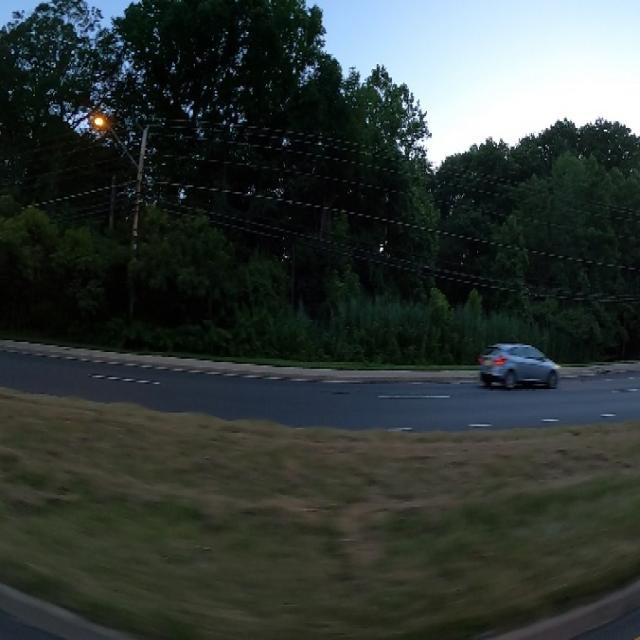cars: (475, 338, 563, 392)
